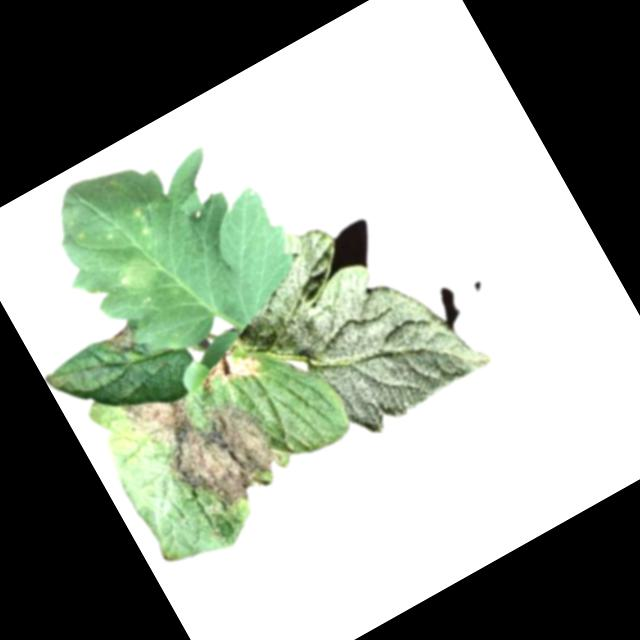Late_blight: (119, 350, 294, 534), (197, 339, 266, 403), (109, 247, 163, 300), (98, 320, 146, 363), (125, 199, 150, 225)
healthy: (205, 174, 499, 472)
